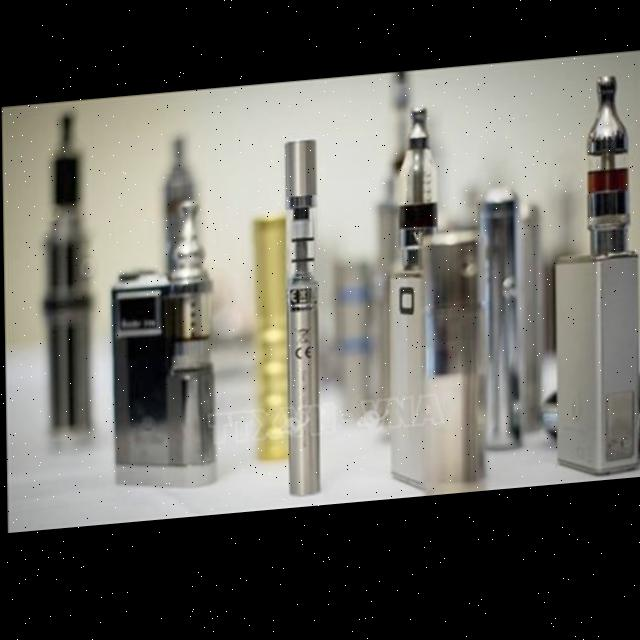vape: (385, 107, 489, 507), (552, 81, 640, 489), (109, 203, 216, 499), (37, 106, 95, 459), (282, 144, 322, 502), (156, 134, 203, 208)
